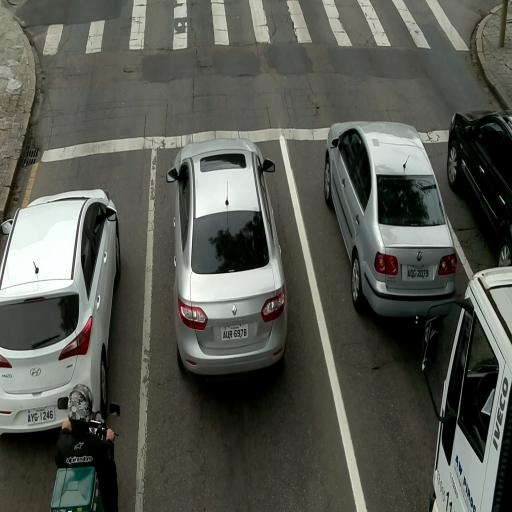car: (0, 190, 121, 430), (167, 138, 285, 376), (324, 120, 452, 324), (447, 110, 512, 266)
motorcycle: (56, 383, 121, 511)
others: (426, 266, 512, 510)
